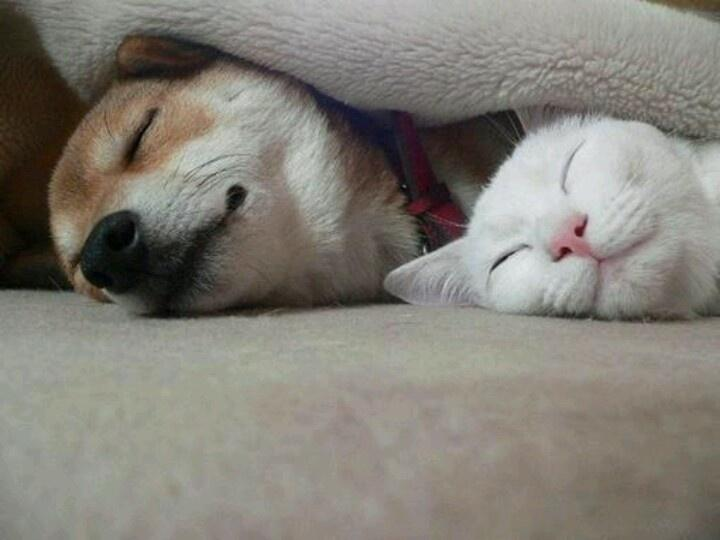kedo: (376, 84, 720, 327)
